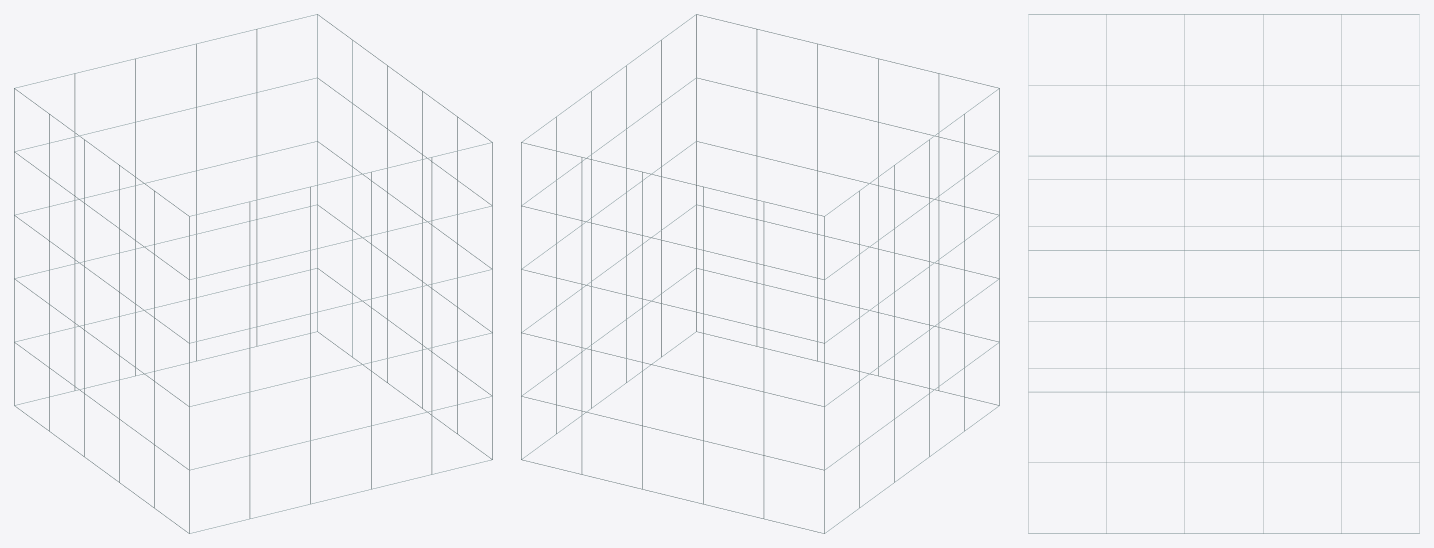
The picture shows the model from 3 angles, left to right: view 1: azimuth 30°, elevation 25°; view 2: azimuth 150°, elevation 25°; view 3: azimuth 270°, elevation 25°; orthographic projection. The views are drawn at different scales.
Visible parts, largest first — view 1: cube09.001, cube11.001, cube10.001, cube12.001; view 2: cube11.001, cube09.001, cube12.001, cube10.001; view 3: cube10.001, cube12.001, cube09.001.
Boxes of the visible parts, bbox=[...] form: cube09.001: bbox=[189, 142, 492, 533]; cube11.001: bbox=[14, 14, 317, 405]; cube10.001: bbox=[317, 14, 492, 459]; cube12.001: bbox=[14, 88, 188, 533]; cube11.001: bbox=[521, 142, 824, 533]; cube09.001: bbox=[696, 14, 999, 405]; cube12.001: bbox=[824, 88, 999, 533]; cube10.001: bbox=[521, 14, 696, 459]; cube10.001: bbox=[1028, 179, 1419, 533]; cube12.001: bbox=[1028, 14, 1419, 368]; cube09.001: bbox=[1028, 14, 1028, 533].
Bounding box in the file's own units: 2.5 × 2.5 × 2.5.
